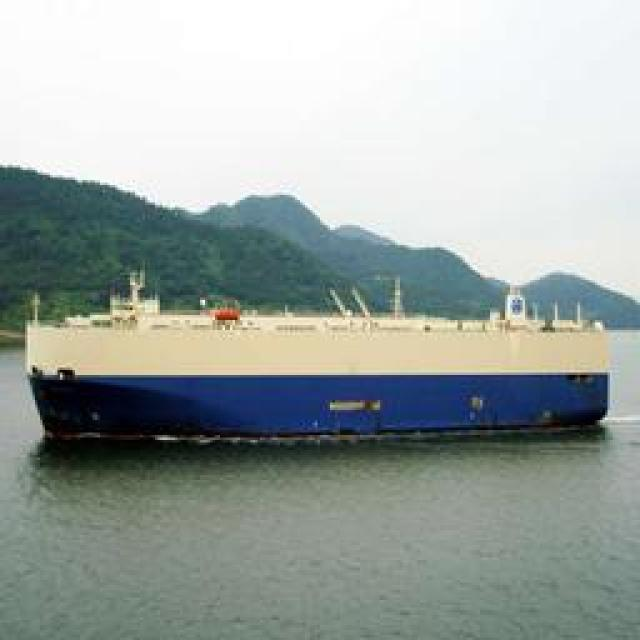CIV_Ship: (19, 291, 624, 441)
